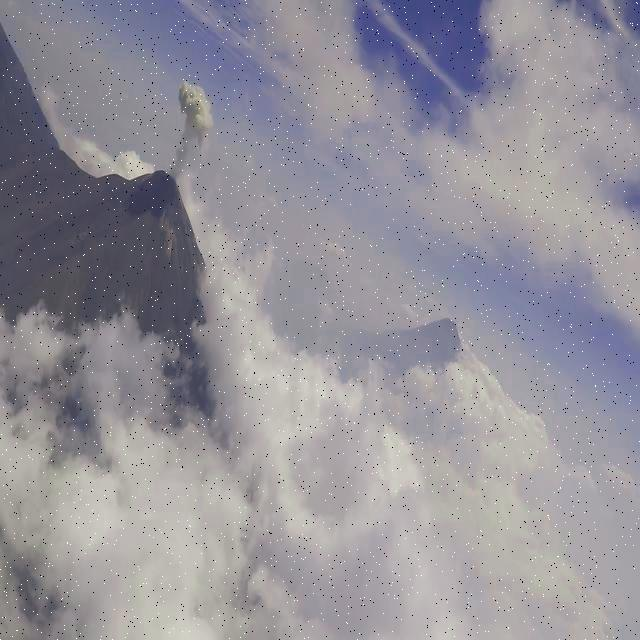Plume: (174, 80, 215, 164)
Summit: (95, 158, 198, 240)
